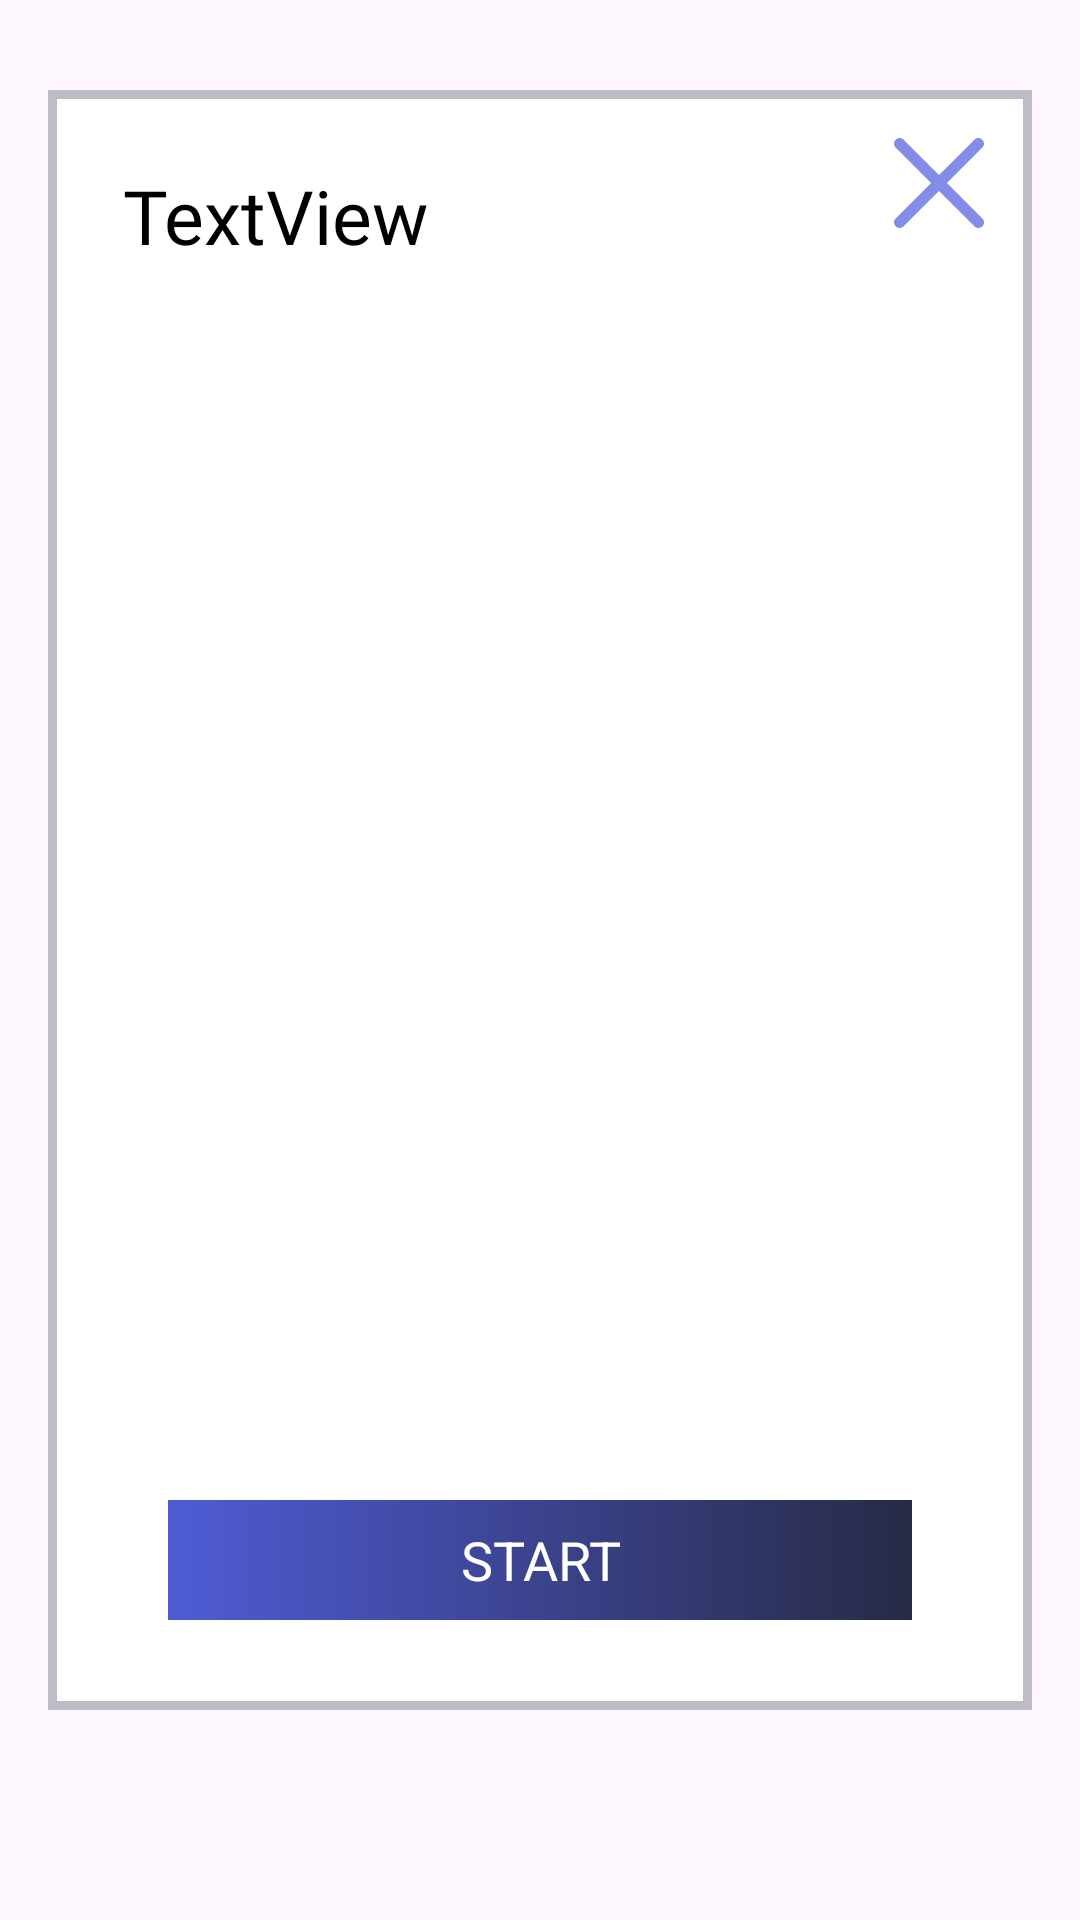

Point at icon controls on the screen. Image size 1080px×1920px, points as (x=x, y=y).
cross: (x=939, y=183)
